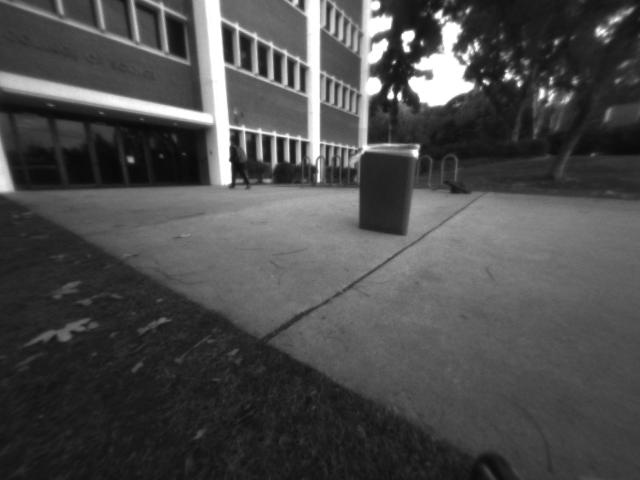trashcan_open: (356, 135, 426, 241)
